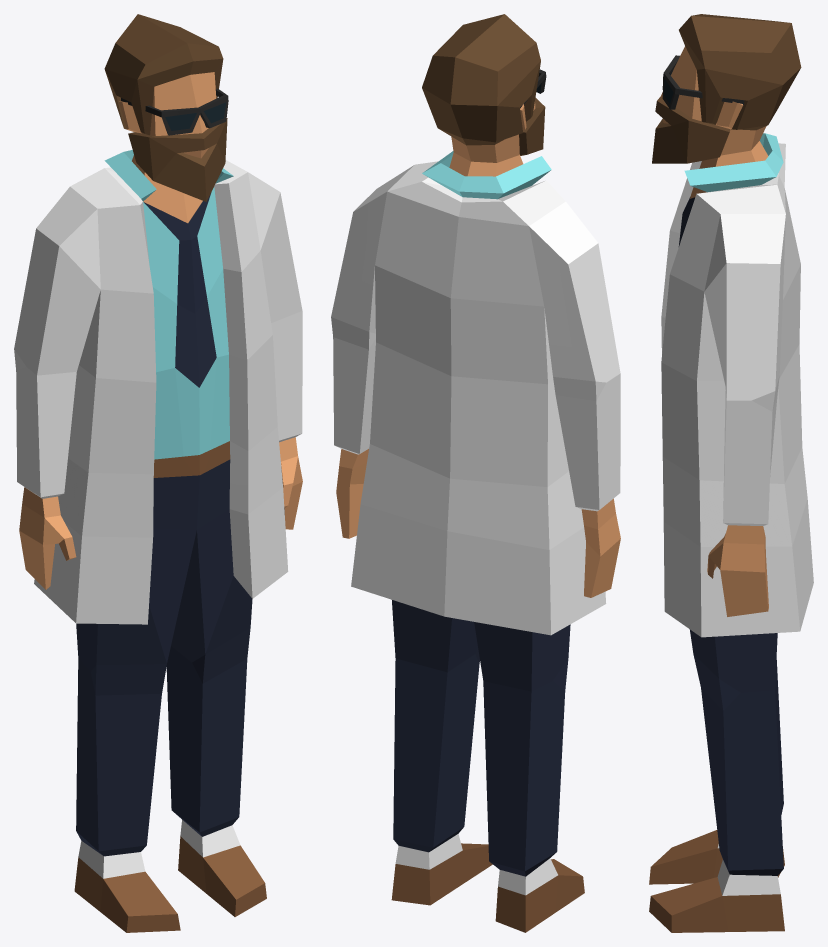
Rendered from man-doctor.glb.
3 renders of one model, left to right at view 1: azimuth 30°, elevation 25°; view 2: azimuth 150°, elevation 25°; view 3: azimuth 270°, elevation 25°, orthographic.
Parts seen in each view (by area): view 1: man-doctor; view 2: man-doctor; view 3: man-doctor.
Part boxes in pixels (<box>): man-doctor: <box>14,14,302,932</box>; man-doctor: <box>331,14,620,932</box>; man-doctor: <box>649,14,813,932</box>.
Bounding box in the file's own units: 0.5881 × 1.83 × 0.3102.
1 material, 1 textured.
